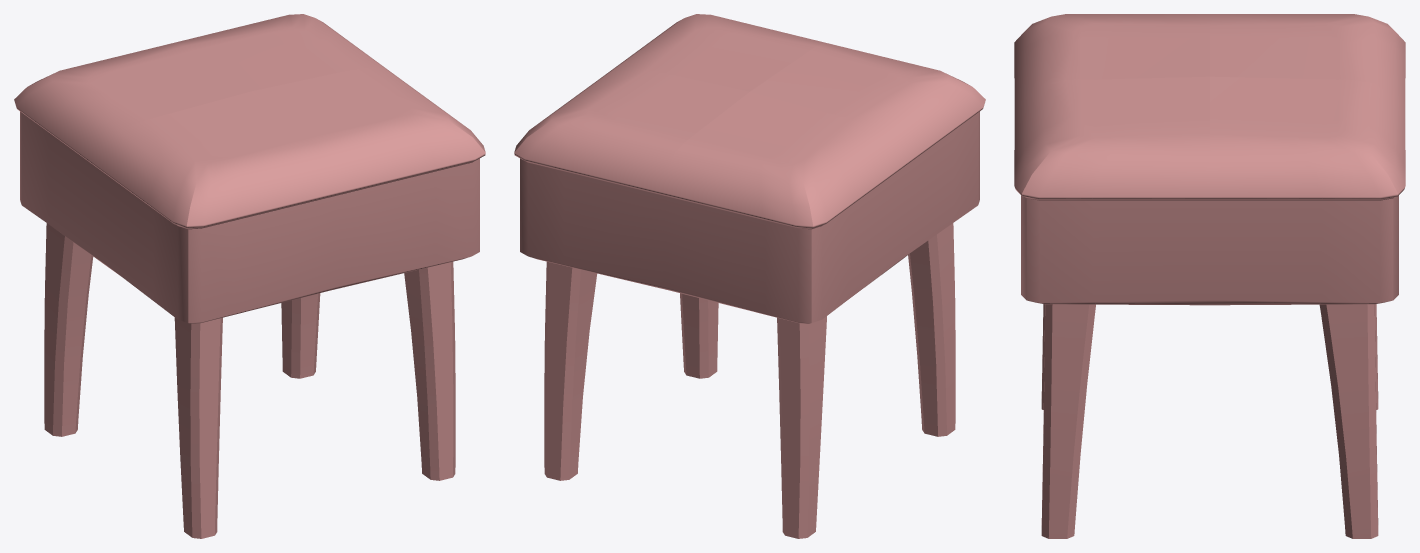
The model's file is GambellingChair01.fbx.
3 renders of one model, left to right at view 1: azimuth 30°, elevation 25°; view 2: azimuth 150°, elevation 25°; view 3: azimuth 270°, elevation 25°, orthographic. The views are drawn at different scales.
Parts seen in each view (by area): view 1: GambelingChair01_Mesh; view 2: GambelingChair01_Mesh; view 3: GambelingChair01_Mesh.
Boxes of the visible parts, x1,y1,x2,y2 form: GambelingChair01_Mesh: (14, 14, 485, 538); GambelingChair01_Mesh: (514, 14, 985, 538); GambelingChair01_Mesh: (1014, 14, 1405, 538).
Bounding box in the file's own units: 58.95 × 65.26 × 58.95.
